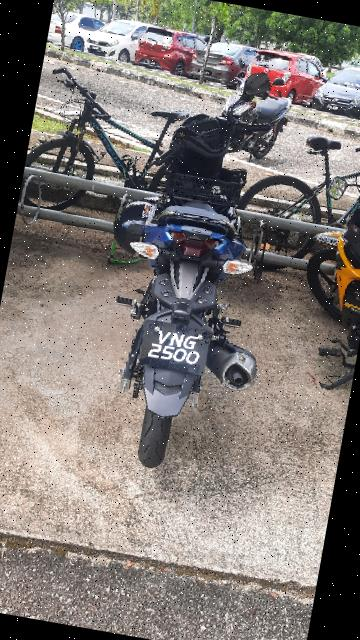License_Plate: (132, 316, 217, 381)
motorcycle: (77, 49, 315, 487)
